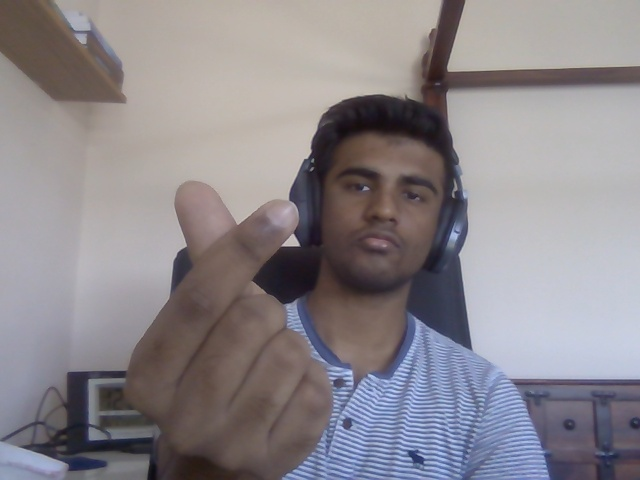Heart: (122, 180, 334, 475)
